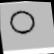no answer: (9, 6, 39, 40)
